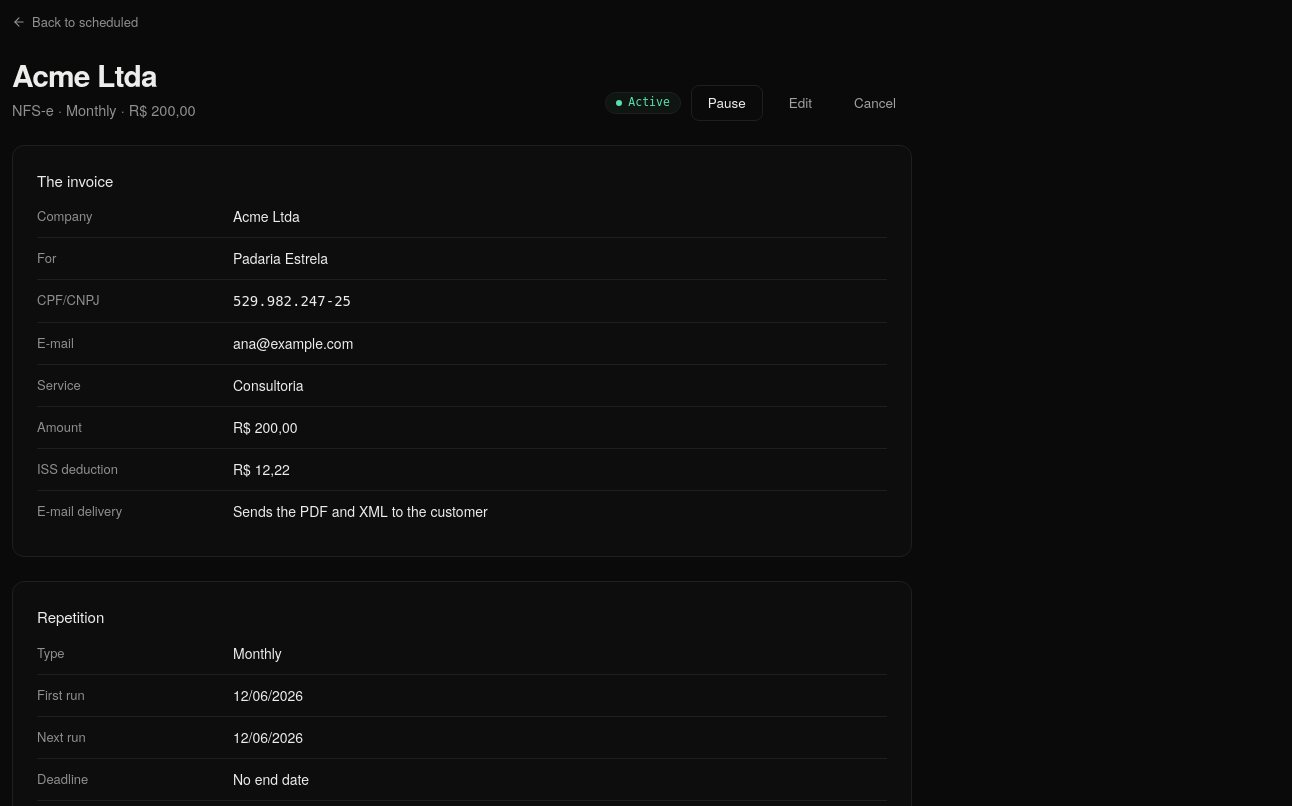
Scenario: schedule details › pausing from the details updates the status
The image size is (1292, 806).
Click the button "Pause" at (727, 103), box [691,85,763,121]
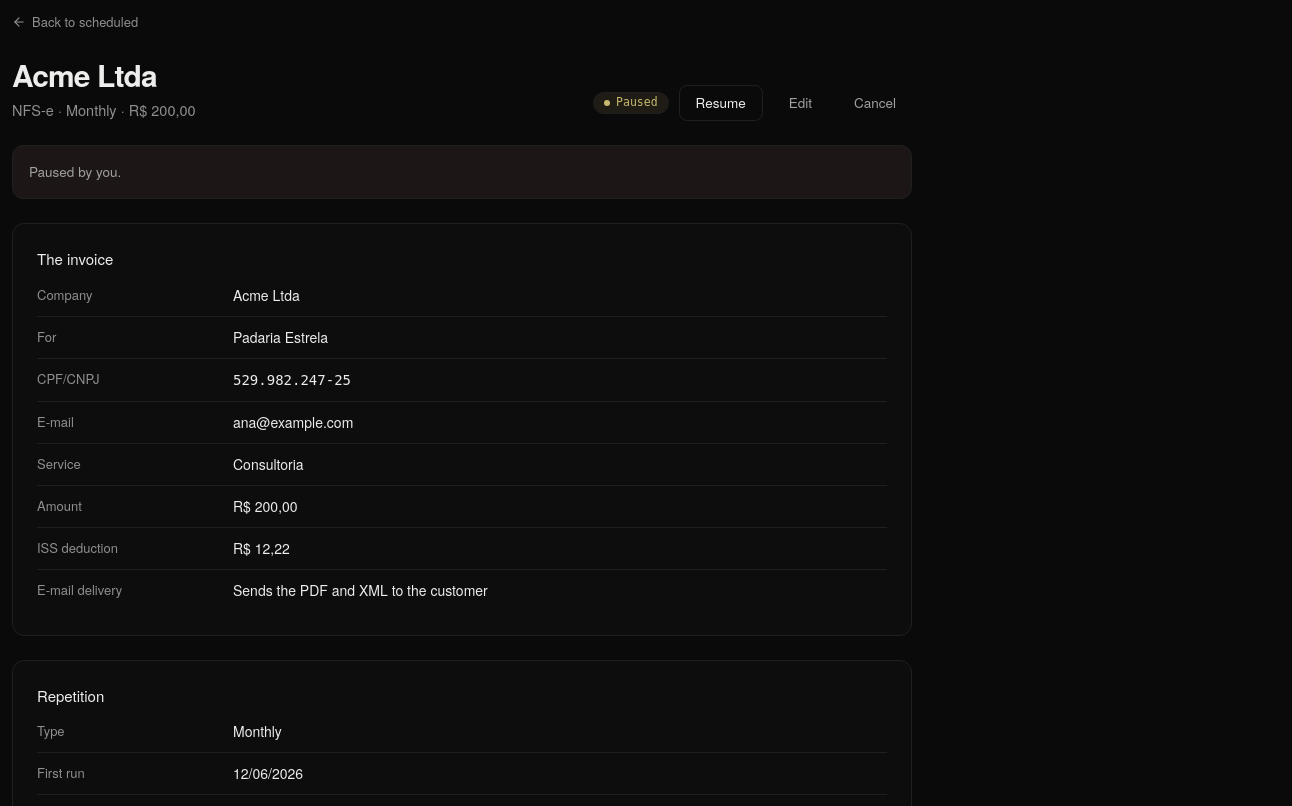
Check: the button "Resume" is shown, box [679,85,763,121]
